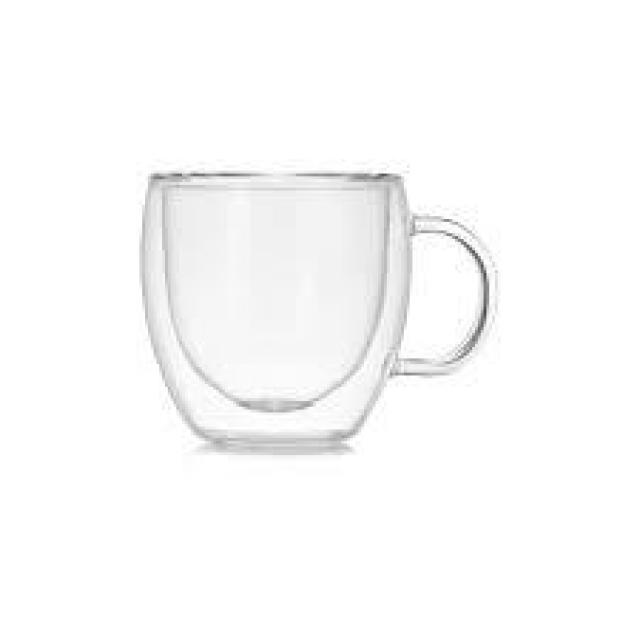non-organic waste: (139, 166, 498, 454)
